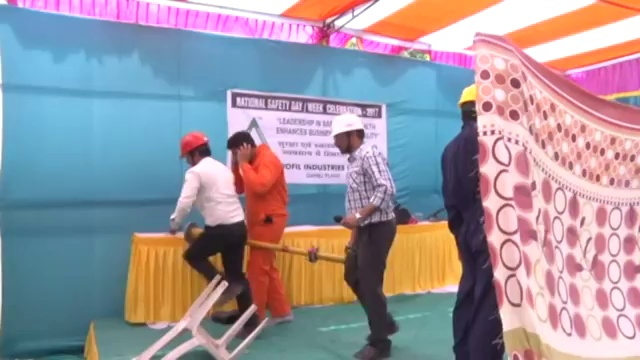helmet: (331, 111, 365, 136), (179, 131, 210, 157), (457, 80, 484, 107)
helmet_off: (224, 129, 255, 161)
helmet_on: (329, 110, 367, 156), (456, 78, 485, 132), (176, 131, 210, 167)
person: (439, 81, 511, 360), (166, 131, 260, 339), (326, 110, 399, 360), (225, 129, 293, 325)
